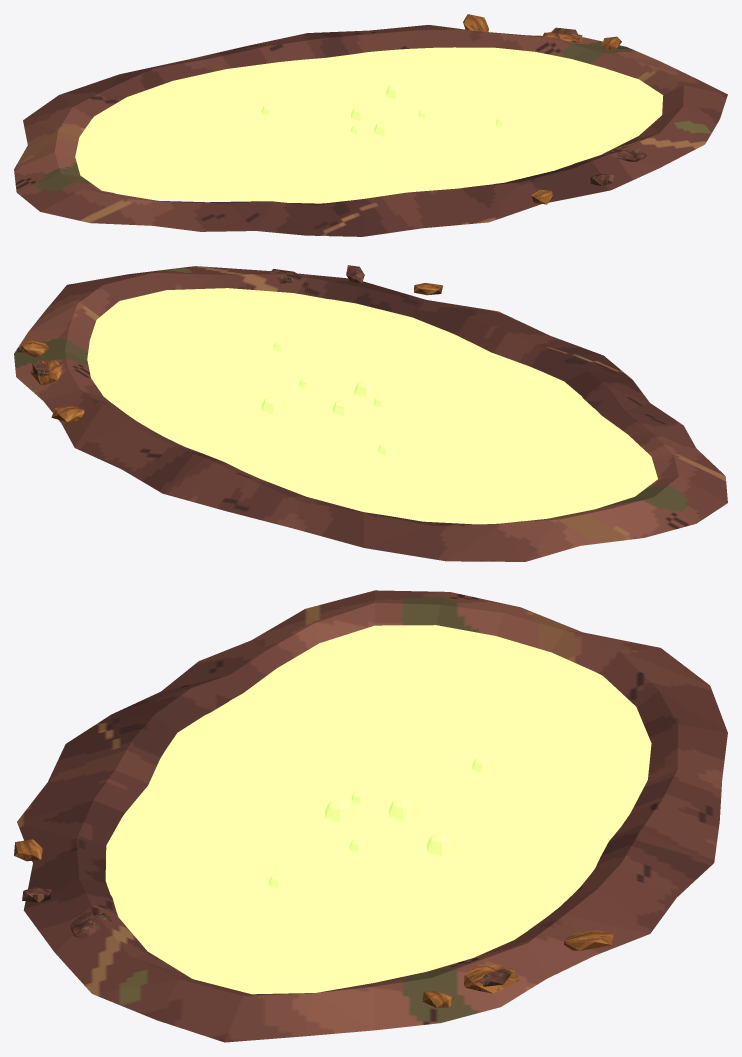
Rendered from SM_AN44_AcidPuddle_B.fbx.
3 renders of one model, top to bottom at view 1: azimuth 30°, elevation 25°; view 2: azimuth 150°, elevation 25°; view 3: azimuth 270°, elevation 25°, orthographic. The views are drawn at different scales.
Visible parts, largest first — view 1: AN44b_Acid, AN44b_Earth, AN44b_Props; view 2: AN44b_Acid, AN44b_Earth, AN44b_Props; view 3: AN44b_Acid, AN44b_Earth, AN44b_Props.
Boxes of the visible parts, x1=… form: AN44b_Acid: x1=75, y1=47, x2=663, y2=203; AN44b_Earth: x1=14, y1=25, x2=727, y2=236; AN44b_Props: x1=463, y1=14, x2=647, y2=204; AN44b_Acid: x1=87, y1=288, x2=657, y2=524; AN44b_Earth: x1=14, y1=266, x2=727, y2=561; AN44b_Props: x1=21, y1=265, x2=442, y2=421; AN44b_Acid: x1=105, y1=625, x2=651, y2=994; AN44b_Earth: x1=17, y1=590, x2=727, y2=1042; AN44b_Props: x1=14, y1=839, x2=613, y2=1008.
Bounding box in the file's own units: 2.42 × 0.0675 × 1.62.
